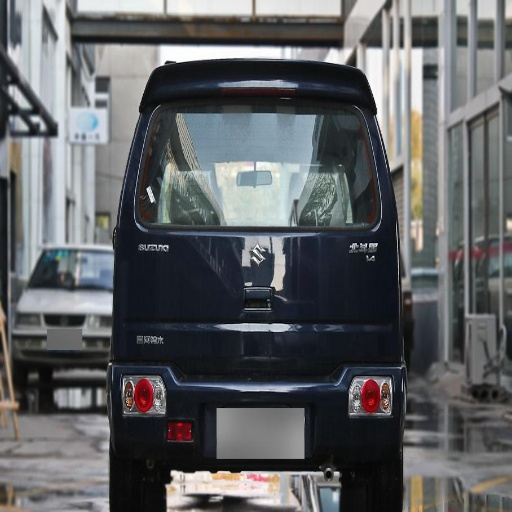back_bumper: (141, 363, 270, 441), (291, 366, 399, 409)
trunk: (140, 234, 389, 376)
